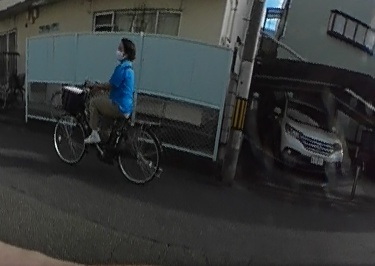person: (83, 37, 140, 143)
